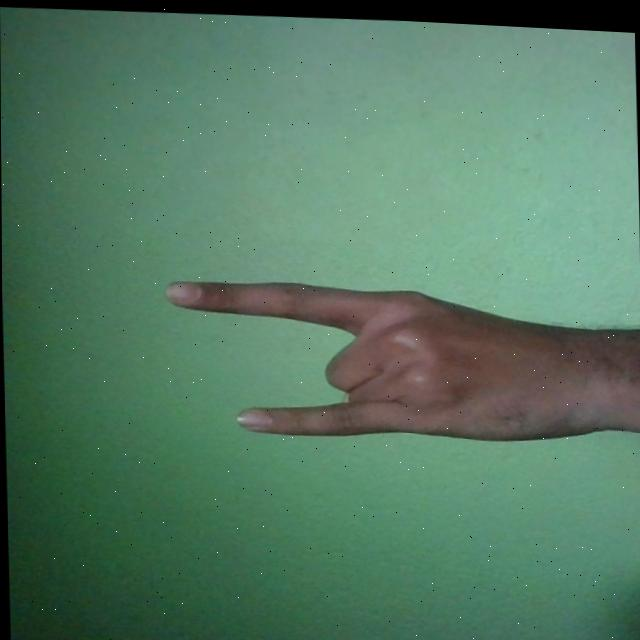Rock On: (162, 265, 639, 448)
